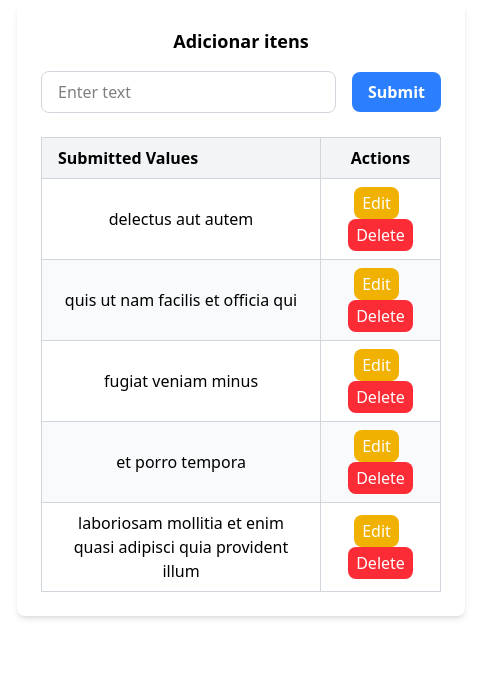
Test: Componente Form › Deve adicionar um item na lista e removê-lo
In the field named "Item": (188, 92) [41,71,336,113], type "Item 1"
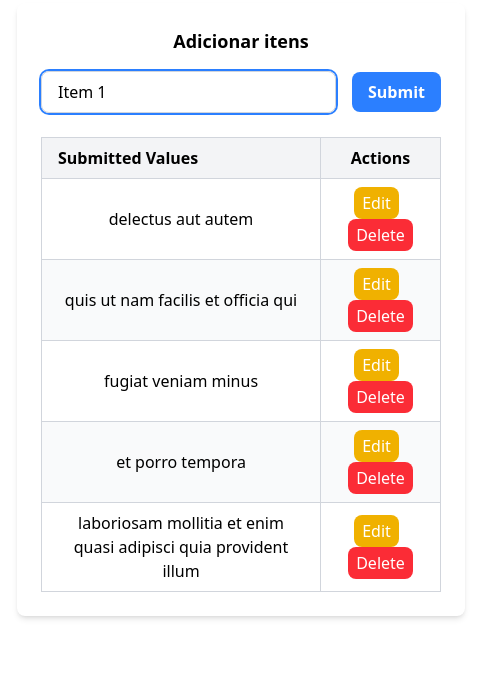
Click the button "Submit": click(396, 92) [352,72,441,112]
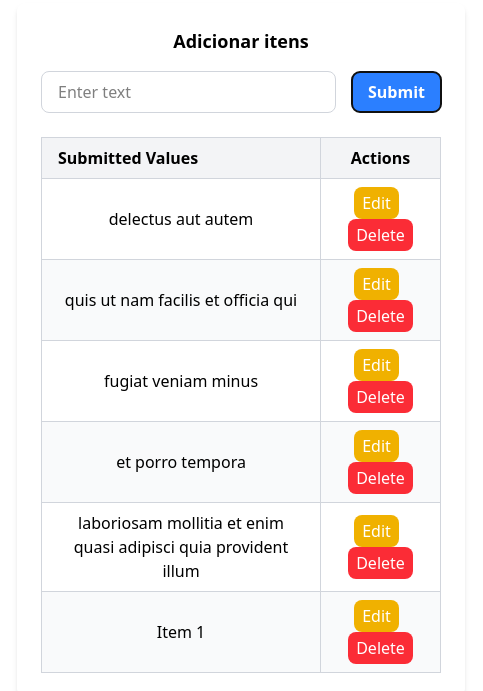
Result: the text "Item 1" is shown at [42,592,320,672]
Click the button named "Excluir item Item 1": click(381, 648) [348,632,413,664]
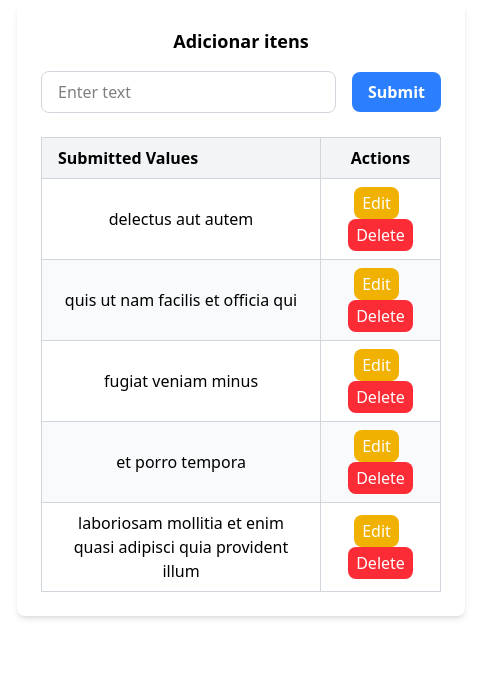
Result: the text "Item 1" is gone
